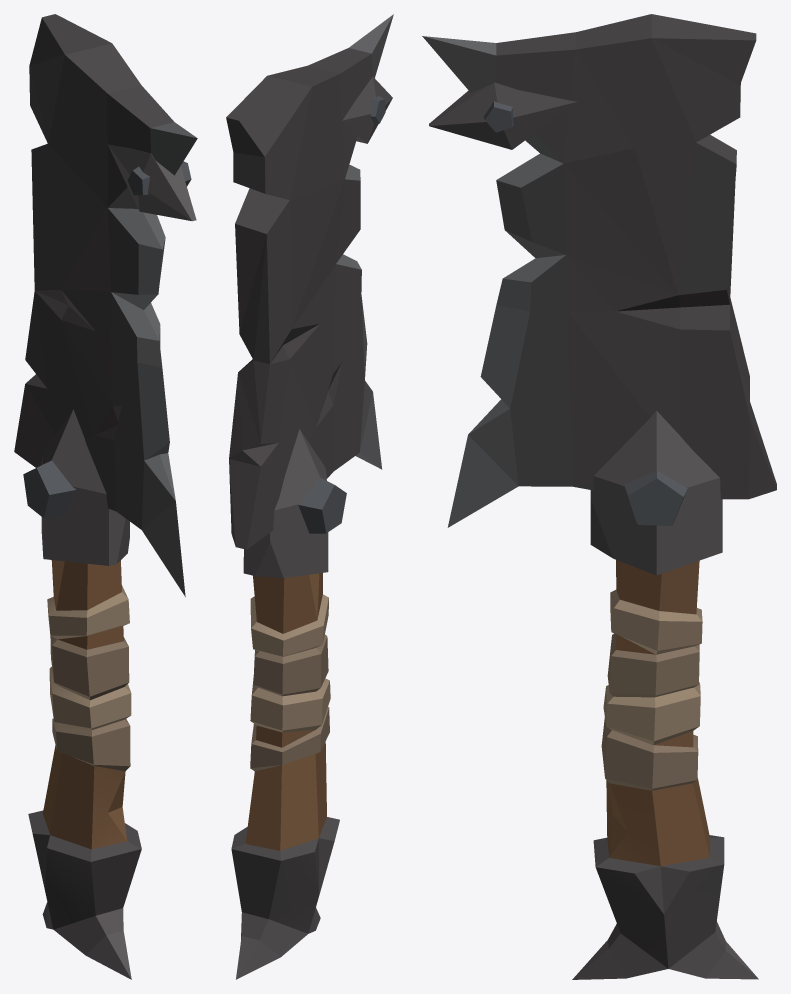
The model's file is goblin_cleaver.glb.
The picture shows the model from 3 angles, left to right: view 1: azimuth 30°, elevation 25°; view 2: azimuth 150°, elevation 25°; view 3: azimuth 270°, elevation 25°; orthographic projection. The views are drawn at different scales.
Visible parts, largest first — view 1: SM_Wep_Cleaver_01; view 2: SM_Wep_Cleaver_01; view 3: SM_Wep_Cleaver_01.
Part boxes in pixels (x1,y1,x2,y2): SM_Wep_Cleaver_01: (14,14,197,979); SM_Wep_Cleaver_01: (226,14,393,979); SM_Wep_Cleaver_01: (422,14,776,979).
Bounding box in the file's own units: 0.0704 × 0.6456 × 0.2184.
Materials: 1 (1 with a texture image).
